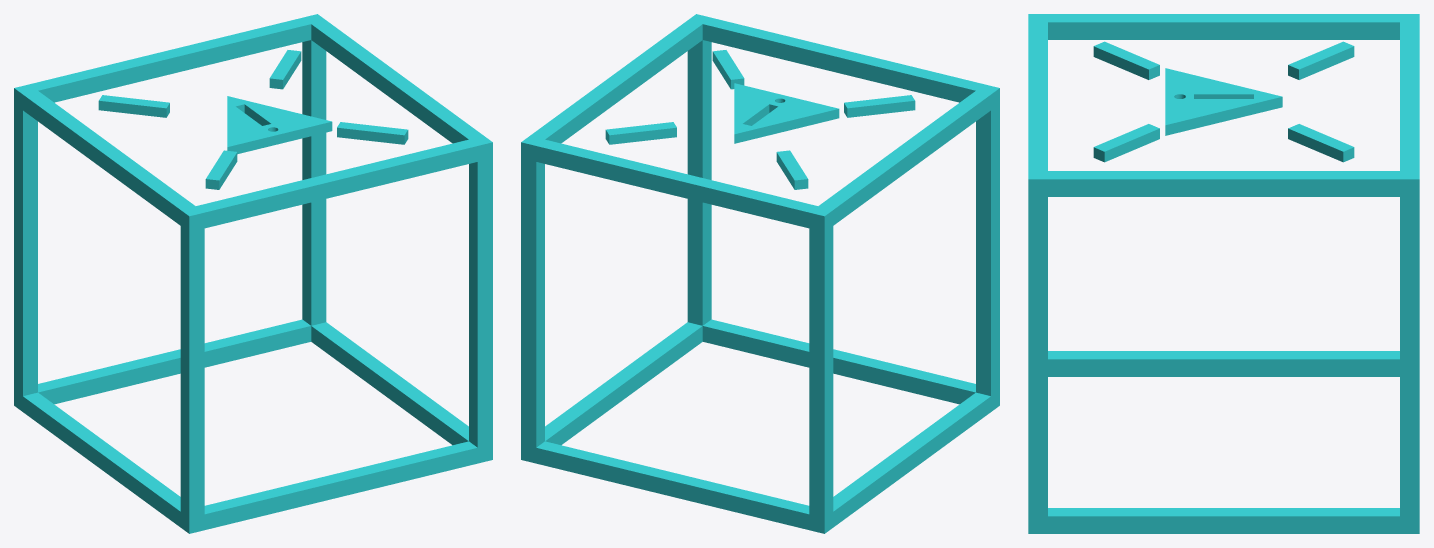
Rendered from 蓝门模型.fbx.
3 views of the same model, side by side, from view 1: azimuth 30°, elevation 25°; view 2: azimuth 150°, elevation 25°; view 3: azimuth 270°, elevation 25° (orthographic). The views are drawn at different scales.
Visible parts, largest first — view 1: 零件1; view 2: 零件1; view 3: 零件1.
Boxes of the visible parts, x1,y1,x2,y2 form: 零件1: (14,14,492,533); 零件1: (521,14,999,533); 零件1: (1028,14,1419,533).
Bounding box in the file's own units: 10000 × 10000 × 10000.
